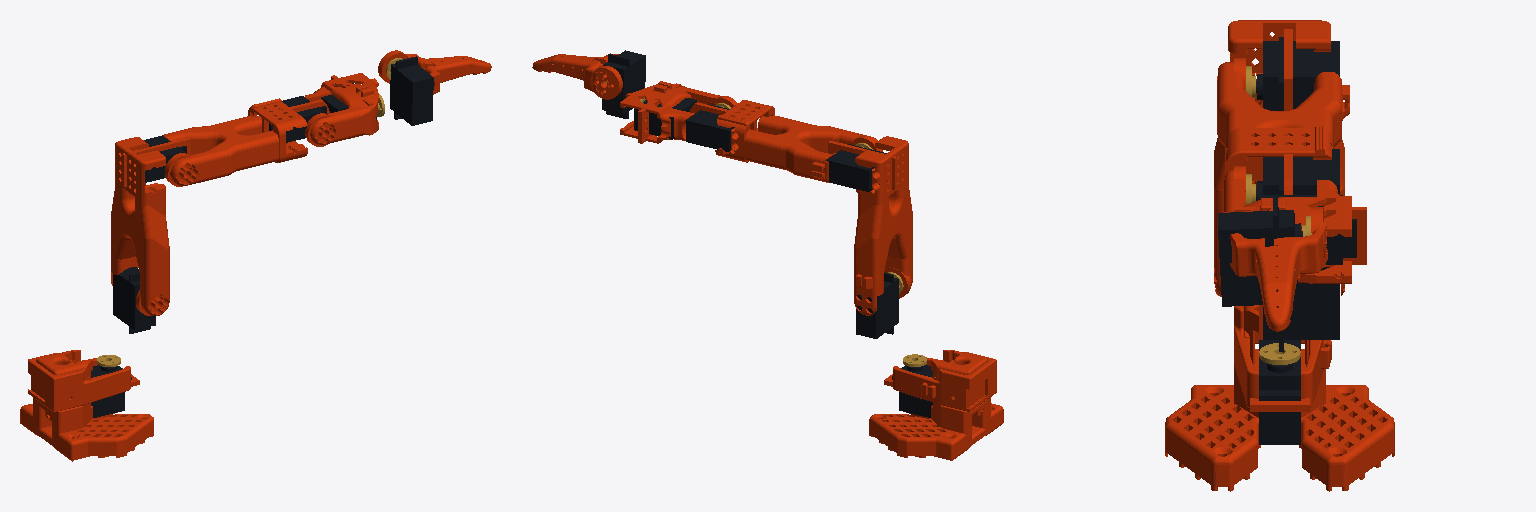
robot.urdf — so101_mg996r_follower_r3:
<?xml version="1.0"?>
<robot name="so101_mg996r_follower_r3">
  <!-- Engineering prototype. Kinematics checked against SolidWorks. Physical mass, COM, inertia and effort remain UNVERIFIED. No inertial guesses. Effort zero deliberately disables effort authority; it is not a measured servo rating. -->
  <material name="printed">
    <color rgba=".8 .25 .07 1" />
  </material>
  <material name="servo">
    <color rgba=".12 .14 .17 1" />
  </material>
  <material name="horn">
    <color rgba=".72 .56 .25 1" />
  </material>
  <link name="base_link">
    <visual name="follower_sts3215_03a_v1_2">
      <origin xyz="0.0263353 -8.97656999879322e-09 0.0437" rpy="-8.31586478561588e-44 0 -6.16297582203915e-33" />
      <geometry>
        <mesh filename="package://so101_description/meshes/visual/MG996R_Nominal_R3.stl" />
      </geometry>
      <material name="servo" />
    </visual>
    <collision name="follower_sts3215_03a_v1_2_case">
      <origin xyz="0.0283853 -8.97656999879322e-09 0.0337" rpy="-8.31586478561588e-44 0 -6.16297582203915e-33" />
      <geometry>
        <box size="0.0409 0.02 0.037" />
      </geometry>
    </collision>
    <collision name="follower_sts3215_03a_v1_2_tabs">
      <origin xyz="0.0283853 -8.97656999879322e-09 0.0433" rpy="-8.31586478561588e-44 0 -6.16297582203915e-33" />
      <geometry>
        <box size="0.054 0.02 0.0026" />
      </geometry>
    </collision>
    <collision name="follower_sts3215_03a_v1_2_boss">
      <origin xyz="0.0388353 -8.97656999879322e-09 0.0537" rpy="-8.31586478561588e-44 0 -6.16297582203915e-33" />
      <geometry>
        <cylinder radius="0.006500000000000001" length="0.003" />
      </geometry>
    </collision>
    <collision name="follower_sts3215_03a_v1_2_shaft">
      <origin xyz="0.0388353 -8.97656999879322e-09 0.05505" rpy="-8.31586478561588e-44 0 -6.16297582203915e-33" />
      <geometry>
        <cylinder radius="0.003" length="0.0057" />
      </geometry>
    </collision>
    <visual name="follower_Base_MG996R_R3">
      <origin xyz="-0.00636471 -8.97657e-09 -0.0024" rpy="1.5707963267949 6.74682532064708e-12 1.5707963267949" />
      <geometry>
        <mesh filename="package://so101_description/meshes/visual/Base_MG996R_R3.stl" />
      </geometry>
      <material name="printed" />
    </visual>
    <collision name="follower_Base_MG996R_R3_body0">
      <origin xyz="-0.00636471 -8.97657e-09 -0.0024" rpy="1.5707963267949 6.74682532064708e-12 1.5707963267949" />
      <geometry>
        <mesh filename="package://so101_description/meshes/collision/Base_MG996R_R3_body0.stl" />
      </geometry>
    </collision>
  </link>
  <link name="shoulder_link">
    <visual name="follower_sts3215_03a_v1_4">
      <origin xyz="-0.0303992 0.000422241000000002 -0.0417" rpy="1.5707963267949 1.5707963267949 0" />
      <geometry>
        <mesh filename="package://so101_description/meshes/visual/MG996R_Nominal_R3.stl" />
      </geometry>
      <material name="servo" />
    </visual>
    <collision name="follower_sts3215_03a_v1_4_case">
      <origin xyz="-0.0303992 0.010422241 -0.04375" rpy="1.5707963267949 1.5707963267949 0" />
      <geometry>
        <box size="0.0409 0.02 0.037" />
      </geometry>
    </collision>
    <collision name="follower_sts3215_03a_v1_4_tabs">
      <origin xyz="-0.0303992 0.000822241000000002 -0.04375" rpy="1.5707963267949 1.5707963267949 0" />
      <geometry>
        <box size="0.054 0.02 0.0026" />
      </geometry>
    </collision>
    <collision name="follower_sts3215_03a_v1_4_boss">
      <origin xyz="-0.0303992 -0.009577759 -0.0542" rpy="1.5707963267949 1.5707963267949 0" />
      <geometry>
        <cylinder radius="0.006500000000000001" length="0.003" />
      </geometry>
    </collision>
    <collision name="follower_sts3215_03a_v1_4_shaft">
      <origin xyz="-0.0303992 -0.010927759 -0.0542" rpy="1.5707963267949 1.5707963267949 0" />
      <geometry>
        <cylinder radius="0.003" length="0.0057" />
      </geometry>
    </collision>
    <visual name="follower_Shoulder_MG996R_R3">
      <origin xyz="0.0122008 2.22413e-05 0.0464" rpy="-1.5707963267949 0 0" />
      <geometry>
        <mesh filename="package://so101_description/meshes/visual/Shoulder_MG996R_R3.stl" />
      </geometry>
      <material name="printed" />
    </visual>
    <collision name="follower_Shoulder_MG996R_R3_body0">
      <origin xyz="0.0122008 2.22413e-05 0.0464" rpy="-1.5707963267949 0 0" />
      <geometry>
        <mesh filename="package://so101_description/meshes/collision/Shoulder_MG996R_R3_body0.stl" />
      </geometry>
    </collision>
    <visual name="follower_metal_horn_0">
      <origin xyz="0.0125 1.39964063017479e-18 0.0187" rpy="3.14159265358979 0 3.14159265358979" />
      <geometry>
        <mesh filename="package://so101_description/meshes/visual/Metal_Horn_D20_PCD14_R3.stl" />
      </geometry>
      <material name="horn" />
    </visual>
    <collision name="follower_metal_horn_0_body0">
      <origin xyz="0.0125 1.39964063017479e-18 0.0187" rpy="3.14159265358979 0 3.14159265358979" />
      <geometry>
        <mesh filename="package://so101_description/meshes/collision/Metal_Horn_D20_PCD14_R3_body0.stl" />
      </geometry>
    </collision>
  </link>
  <link name="upper_arm_link">
    <visual name="follower_sts3215_03a_v1_7">
      <origin xyz="-0.11257 -0.0155 0.0187" rpy="3.14159265358979 0 -1.5707963267949" />
      <geometry>
        <mesh filename="package://so101_description/meshes/visual/MG996R_Nominal_R3.stl" />
      </geometry>
      <material name="servo" />
    </visual>
    <collision name="follower_sts3215_03a_v1_7_case">
      <origin xyz="-0.11257 -0.01755 0.0287" rpy="3.14159265358979 0 -1.5707963267949" />
      <geometry>
        <box size="0.0409 0.02 0.037" />
      </geometry>
    </collision>
    <collision name="follower_sts3215_03a_v1_7_tabs">
      <origin xyz="-0.11257 -0.01755 0.0191" rpy="3.14159265358979 0 -1.5707963267949" />
      <geometry>
        <box size="0.054 0.02 0.0026" />
      </geometry>
    </collision>
    <collision name="follower_sts3215_03a_v1_7_boss">
      <origin xyz="-0.11257 -0.028 0.00870000000000001" rpy="3.14159265358979 0 -1.5707963267949" />
      <geometry>
        <cylinder radius="0.006500000000000001" length="0.003" />
      </geometry>
    </collision>
    <collision name="follower_sts3215_03a_v1_7_shaft">
      <origin xyz="-0.11257 -0.028 0.00735000000000001" rpy="3.14159265358979 0 -1.5707963267949" />
      <geometry>
        <cylinder radius="0.003" length="0.0057" />
      </geometry>
    </collision>
    <visual name="follower_Upper_arm_MG996R_R3">
      <origin xyz="-0.065085 0.012 0.0182" rpy="3.14159265358979 0 0" />
      <geometry>
        <mesh filename="package://so101_description/meshes/visual/Upper_arm_MG996R_R3.stl" />
      </geometry>
      <material name="printed" />
    </visual>
    <collision name="follower_Upper_arm_MG996R_R3_body0">
      <origin xyz="-0.065085 0.012 0.0182" rpy="3.14159265358979 0 0" />
      <geometry>
        <mesh filename="package://so101_description/meshes/collision/Upper_arm_MG996R_R3_body0.stl" />
      </geometry>
    </collision>
    <visual name="follower_metal_horn_1">
      <origin xyz="0.0125 2.8421709430404e-17 0.018700041" rpy="3.14159265358979 4.44089209850063e-16 3.14159265358979" />
      <geometry>
        <mesh filename="package://so101_description/meshes/visual/Metal_Horn_D20_PCD14_R3.stl" />
      </geometry>
      <material name="horn" />
    </visual>
    <collision name="follower_metal_horn_1_body0">
      <origin xyz="0.0125 2.8421709430404e-17 0.018700041" rpy="3.14159265358979 4.44089209850063e-16 3.14159265358979" />
      <geometry>
        <mesh filename="package://so101_description/meshes/collision/Metal_Horn_D20_PCD14_R3_body0.stl" />
      </geometry>
    </collision>
  </link>
  <link name="lower_arm_link">
    <visual name="follower_sts3215_03a_v1_11">
      <origin xyz="-0.1224 0.00519999999999996 0.0187" rpy="-3.14159265358979 0 -3.14159265358979" />
      <geometry>
        <mesh filename="package://so101_description/meshes/visual/MG996R_Nominal_R3.stl" />
      </geometry>
      <material name="servo" />
    </visual>
    <collision name="follower_sts3215_03a_v1_11_case">
      <origin xyz="-0.12445 0.00519999999999996 0.0287" rpy="-3.14159265358979 0 -3.14159265358979" />
      <geometry>
        <box size="0.0409 0.02 0.037" />
      </geometry>
    </collision>
    <collision name="follower_sts3215_03a_v1_11_tabs">
      <origin xyz="-0.12445 0.00519999999999996 0.0191" rpy="-3.14159265358979 0 -3.14159265358979" />
      <geometry>
        <box size="0.054 0.02 0.0026" />
      </geometry>
    </collision>
    <collision name="follower_sts3215_03a_v1_11_boss">
      <origin xyz="-0.1349 0.00519999999999996 0.0087" rpy="-3.14159265358979 0 -3.14159265358979" />
      <geometry>
        <cylinder radius="0.006500000000000001" length="0.003" />
      </geometry>
    </collision>
    <collision name="follower_sts3215_03a_v1_11_shaft">
      <origin xyz="-0.1349 0.00519999999999996 0.00735" rpy="-3.14159265358979 0 -3.14159265358979" />
      <geometry>
        <cylinder radius="0.003" length="0.0057" />
      </geometry>
    </collision>
    <visual name="follower_Forearm_MG996R_R3">
      <origin xyz="-0.0648499 -0.032 0.0182" rpy="3.14159265358979 0 0" />
      <geometry>
        <mesh filename="package://so101_description/meshes/visual/Forearm_MG996R_R3.stl" />
      </geometry>
      <material name="printed" />
    </visual>
    <collision name="follower_Forearm_MG996R_R3_body0">
      <origin xyz="-0.0648499 -0.032 0.0182" rpy="3.14159265358979 0 0" />
      <geometry>
        <mesh filename="package://so101_description/meshes/collision/Forearm_MG996R_R3_body0.stl" />
      </geometry>
    </collision>
    <collision name="follower_Forearm_MG996R_R3_body1">
      <origin xyz="-0.0648499 -0.032 0.0182" rpy="3.14159265358979 0 0" />
      <geometry>
        <mesh filename="package://so101_description/meshes/collision/Forearm_MG996R_R3_body1.stl" />
      </geometry>
    </collision>
    <collision name="follower_Forearm_MG996R_R3_body2">
      <origin xyz="-0.0648499 -0.032 0.0182" rpy="3.14159265358979 0 0" />
      <geometry>
        <mesh filename="package://so101_description/meshes/collision/Forearm_MG996R_R3_body2.stl" />
      </geometry>
    </collision>
    <visual name="follower_metal_horn_2">
      <origin xyz="0.0125 0 0.0186999999999998" rpy="-3.14159265358979 0 -3.14159265358979" />
      <geometry>
        <mesh filename="package://so101_description/meshes/visual/Metal_Horn_D20_PCD14_R3.stl" />
      </geometry>
      <material name="horn" />
    </visual>
    <collision name="follower_metal_horn_2_body0">
      <origin xyz="0.0125 0 0.0186999999999998" rpy="-3.14159265358979 0 -3.14159265358979" />
      <geometry>
        <mesh filename="package://so101_description/meshes/collision/Metal_Horn_D20_PCD14_R3_body0.stl" />
      </geometry>
    </collision>
  </link>
  <link name="wrist_link">
    <visual name="follower_sts3215_03a_no_horn_v1_12">
      <origin xyz="8.5265128291212e-17 -0.0504 0.0306" rpy="1.5707963267949 1.5707963267949 0" />
      <geometry>
        <mesh filename="package://so101_description/meshes/visual/MG996R_Nominal_R3.stl" />
      </geometry>
      <material name="servo" />
    </visual>
    <collision name="follower_sts3215_03a_no_horn_v1_12_case">
      <origin xyz="8.57203197313083e-17 -0.0404 0.02855" rpy="1.5707963267949 1.5707963267949 0" />
      <geometry>
        <box size="0.0409 0.02 0.037" />
      </geometry>
    </collision>
    <collision name="follower_sts3215_03a_no_horn_v1_12_tabs">
      <origin xyz="8.57203197313083e-17 -0.05 0.02855" rpy="1.5707963267949 1.5707963267949 0" />
      <geometry>
        <box size="0.054 0.02 0.0026" />
      </geometry>
    </collision>
    <collision name="follower_sts3215_03a_no_horn_v1_12_boss">
      <origin xyz="8.80406858527749e-17 -0.0604 0.0181" rpy="1.5707963267949 1.5707963267949 0" />
      <geometry>
        <cylinder radius="0.006500000000000001" length="0.003" />
      </geometry>
    </collision>
    <collision name="follower_sts3215_03a_no_horn_v1_12_shaft">
      <origin xyz="8.80406858527749e-17 -0.06175 0.0181" rpy="1.5707963267949 1.5707963267949 0" />
      <geometry>
        <cylinder radius="0.003" length="0.0057" />
      </geometry>
    </collision>
    <visual name="follower_Wrist_pitch_roll_MG996R_R3">
      <origin xyz="0 -0.028 0.0181" rpy="-1.5707963267949 -1.5707963267949 0" />
      <geometry>
        <mesh filename="package://so101_description/meshes/visual/Wrist_pitch_roll_MG996R_R3.stl" />
      </geometry>
      <material name="printed" />
    </visual>
    <collision name="follower_Wrist_pitch_roll_MG996R_R3_body0">
      <origin xyz="0 -0.028 0.0181" rpy="-1.5707963267949 -1.5707963267949 0" />
      <geometry>
        <mesh filename="package://so101_description/meshes/collision/Wrist_pitch_roll_MG996R_R3_body0.stl" />
      </geometry>
    </collision>
    <visual name="follower_metal_horn_3">
      <origin xyz="0 0.0125 0.0187" rpy="3.14159265358979 0 -1.5707963267949" />
      <geometry>
        <mesh filename="package://so101_description/meshes/visual/Metal_Horn_D20_PCD14_R3.stl" />
      </geometry>
      <material name="horn" />
    </visual>
    <collision name="follower_metal_horn_3_body0">
      <origin xyz="0 0.0125 0.0187" rpy="3.14159265358979 0 -1.5707963267949" />
      <geometry>
        <mesh filename="package://so101_description/meshes/collision/Metal_Horn_D20_PCD14_R3_body0.stl" />
      </geometry>
    </collision>
  </link>
  <link name="gripper_link">
    <visual name="follower_sts3215_03a_v1_14">
      <origin xyz="0.00769999999999999 0.000100000000000001 -0.0234" rpy="-1.5707963267949 0 0" />
      <geometry>
        <mesh filename="package://so101_description/meshes/visual/MG996R_Nominal_R3.stl" />
      </geometry>
      <material name="servo" />
    </visual>
    <collision name="follower_sts3215_03a_v1_14_case">
      <origin xyz="0.00974999999999999 -0.0099 -0.0234" rpy="-1.5707963267949 0 0" />
      <geometry>
        <box size="0.0409 0.02 0.037" />
      </geometry>
    </collision>
    <collision name="follower_sts3215_03a_v1_14_tabs">
      <origin xyz="0.00974999999999999 -0.000299999999999999 -0.0234" rpy="-1.5707963267949 0 0" />
      <geometry>
        <box size="0.054 0.02 0.0026" />
      </geometry>
    </collision>
    <collision name="follower_sts3215_03a_v1_14_boss">
      <origin xyz="0.0202 0.0101 -0.0234" rpy="-1.5707963267949 0 0" />
      <geometry>
        <cylinder radius="0.006500000000000001" length="0.003" />
      </geometry>
    </collision>
    <collision name="follower_sts3215_03a_v1_14_shaft">
      <origin xyz="0.0202 0.01145 -0.0234" rpy="-1.5707963267949 0 0" />
      <geometry>
        <cylinder radius="0.003" length="0.0057" />
      </geometry>
    </collision>
    <visual name="follower_Gripper_body_MG996R_R3">
      <origin xyz="8.5265128291212e-17 -0.000218213999999998 0.000949705999999992" rpy="-3.14159265358979 0 0" />
      <geometry>
        <mesh filename="package://so101_description/meshes/visual/Gripper_body_MG996R_R3.stl" />
      </geometry>
      <material name="printed" />
    </visual>
    <collision name="follower_Gripper_body_MG996R_R3_body0">
      <origin xyz="8.5265128291212e-17 -0.000218213999999998 0.000949705999999992" rpy="-3.14159265358979 0 0" />
      <geometry>
        <mesh filename="package://so101_description/meshes/collision/Gripper_body_MG996R_R3_body0.stl" />
      </geometry>
    </collision>
    <visual name="follower_metal_horn_4">
      <origin xyz="-0.000608253454377717 0.0124851923387362 0.0187" rpy="3.14159265358979 8.88178419700125e-16 -1.52211682680496" />
      <geometry>
        <mesh filename="package://so101_description/meshes/visual/Metal_Horn_D20_PCD14_R3.stl" />
      </geometry>
      <material name="horn" />
    </visual>
    <collision name="follower_metal_horn_4_body0">
      <origin xyz="-0.000608253454377717 0.0124851923387362 0.0187" rpy="3.14159265358979 8.88178419700125e-16 -1.52211682680496" />
      <geometry>
        <mesh filename="package://so101_description/meshes/collision/Metal_Horn_D20_PCD14_R3_body0.stl" />
      </geometry>
    </collision>
  </link>
  <link name="moving_jaw_so101_v1_link">
    <visual name="follower_Moving_jaw_MG996R_R3">
      <origin xyz="0 -5.6843418860808e-17 0.0189" rpy="-2.23217743329499e-33 0 -4.31455794280866e-33" />
      <geometry>
        <mesh filename="package://so101_description/meshes/visual/Moving_jaw_MG996R_R3.stl" />
      </geometry>
      <material name="printed" />
    </visual>
    <collision name="follower_Moving_jaw_MG996R_R3_body0">
      <origin xyz="0 -5.6843418860808e-17 0.0189" rpy="-2.23217743329499e-33 0 -4.31455794280866e-33" />
      <geometry>
        <mesh filename="package://so101_description/meshes/collision/Moving_jaw_MG996R_R3_body0.stl" />
      </geometry>
    </collision>
    <visual name="follower_metal_horn_5">
      <origin xyz="-0.0124999999999999 0 0.0187" rpy="-3.14159265358979 0 0" />
      <geometry>
        <mesh filename="package://so101_description/meshes/visual/Metal_Horn_D20_PCD14_R3.stl" />
      </geometry>
      <material name="horn" />
    </visual>
    <collision name="follower_metal_horn_5_body0">
      <origin xyz="-0.0124999999999999 0 0.0187" rpy="-3.14159265358979 0 0" />
      <geometry>
        <mesh filename="package://so101_description/meshes/collision/Metal_Horn_D20_PCD14_R3_body0.stl" />
      </geometry>
    </collision>
  </link>
  <joint name="shoulder_pan" type="revolute">
    <parent link="base_link" />
    <child link="shoulder_link" />
    <origin xyz="0.0388353 -8.97657000000347e-09 0.0624" rpy="-3.14159265358305 0 -3.14159265358979" />
    <axis xyz="0 0 1" />
    <limit lower="-1.4835298641951802" upper="1.4835298641951802" effort="0" velocity="0.17453292519943295" />
  </joint>
  <joint name="shoulder_lift" type="revolute">
    <parent link="shoulder_link" />
    <child link="upper_arm_link" />
    <origin xyz="-0.0303992 -0.0182778 -0.0542" rpy="-1.5707963267949 -1.5707963267949 0" />
    <axis xyz="0 0 1" />
    <limit lower="-1.3962634015954636" upper="1.3962634015954636" effort="0" velocity="0.17453292519943295" />
  </joint>
  <joint name="elbow_flex" type="revolute">
    <parent link="upper_arm_link" />
    <child link="lower_arm_link" />
    <origin xyz="-0.11257 -0.028 3.5527136788005e-18" rpy="2.22044604925031e-16 0 1.5707963267949" />
    <axis xyz="0 0 1" />
    <limit lower="-1.3962634015954636" upper="1.3962634015954636" effort="0" velocity="0.17453292519943295" />
  </joint>
  <joint name="wrist_flex" type="revolute">
    <parent link="lower_arm_link" />
    <child link="wrist_link" />
    <origin xyz="-0.1349 0.00519999999999999 -1.06581410364015e-17" rpy="2.22044604925031e-16 0 -1.5707963267949" />
    <axis xyz="0 0 1" />
    <limit lower="-1.3962634015954636" upper="1.3962634015954636" effort="0" velocity="0.17453292519943295" />
  </joint>
  <joint name="wrist_roll" type="revolute">
    <parent link="wrist_link" />
    <child link="gripper_link" />
    <origin xyz="1.13686837721616e-16 -0.0691 0.0181" rpy="1.5707963267949 0.0486794999899367 3.14159265358979" />
    <axis xyz="0 0 1" />
    <limit lower="-1.4835298641951802" upper="1.4835298641951802" effort="0" velocity="0.17453292519943295" />
  </joint>
  <joint name="gripper" type="revolute">
    <parent link="gripper_link" />
    <child link="moving_jaw_so101_v1_link" />
    <origin xyz="0.0202 0.0188 -0.0234" rpy="1.5707963267949 0 0" />
    <axis xyz="0 0 1" />
    <limit lower="0.0" upper="1.2217304763960306" effort="0" velocity="0.17453292519943295" />
  </joint>
  <link name="gripper_frame_link" />
  <joint name="gripper_tool_fixed" type="fixed">
    <parent link="gripper_link" />
    <child link="gripper_frame_link" />
    <origin xyz="-0.0079 -0.000218121 -0.0981274" rpy="3.14159265358979 0 3.14159265358979" />
  </joint>
</robot>

--- What the picture shows (computed from the rendered views, not written in the file) ---
The picture shows the robot from 3 angles, left to right: view 1: azimuth 30°, elevation 25°; view 2: azimuth 150°, elevation 25°; view 3: azimuth 270°, elevation 25°; orthographic projection.
Robot: so101_mg996r_follower_r3 — 8 links, 7 joints (6 revolute, 1 fixed); root link base_link; default pose: every joint at zero.
Visible links, largest first — view 1: base_link, upper_arm_link, lower_arm_link, wrist_link, gripper_link, shoulder_link, moving_jaw_so101_v1_link; view 2: base_link, upper_arm_link, lower_arm_link, wrist_link, moving_jaw_so101_v1_link, shoulder_link, gripper_link; view 3: base_link, lower_arm_link, upper_arm_link, wrist_link, moving_jaw_so101_v1_link, gripper_link, shoulder_link.
Boxes of the visible links, x1,y1,x2,y2 form: base_link: (20,350,153,461); upper_arm_link: (111,135,190,315); lower_arm_link: (163,96,329,186); wrist_link: (305,73,378,146); gripper_link: (377,56,433,125); shoulder_link: (97,267,155,366); moving_jaw_so101_v1_link: (378,50,491,94); base_link: (869,350,1003,460); upper_arm_link: (827,136,912,315); lower_arm_link: (686,100,882,182); wrist_link: (620,81,737,143); moving_jaw_so101_v1_link: (532,53,622,99); shoulder_link: (856,272,926,366); gripper_link: (602,50,645,118); base_link: (1165,305,1394,491); lower_arm_link: (1217,58,1349,200); upper_arm_link: (1214,20,1344,296); wrist_link: (1224,166,1366,283); moving_jaw_so101_v1_link: (1230,207,1327,331); gripper_link: (1218,198,1302,306); shoulder_link: (1259,267,1339,364).
Size in the robot's own frame: 0.4338 by 0.1109 by 0.2735 metres.
17 mesh visuals loaded from 9 distinct referenced files (7 binary STL); not drawn: 2 (reference not matched to a file when rendering).
